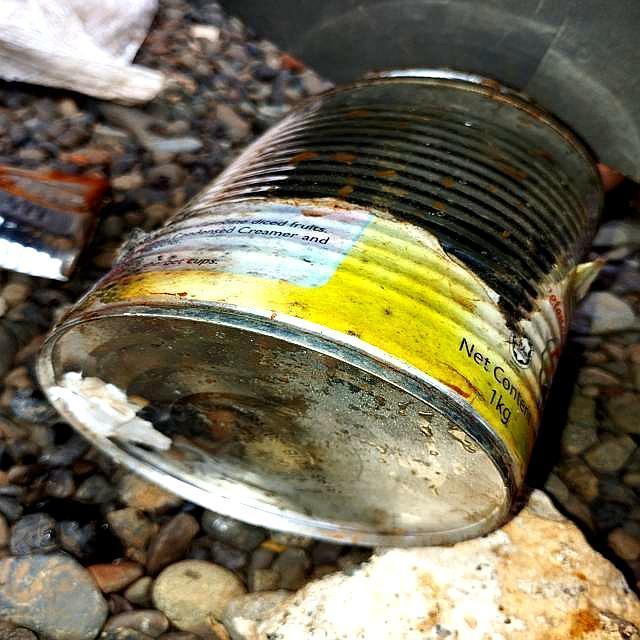Non-biodegradable: (34, 67, 612, 550)
